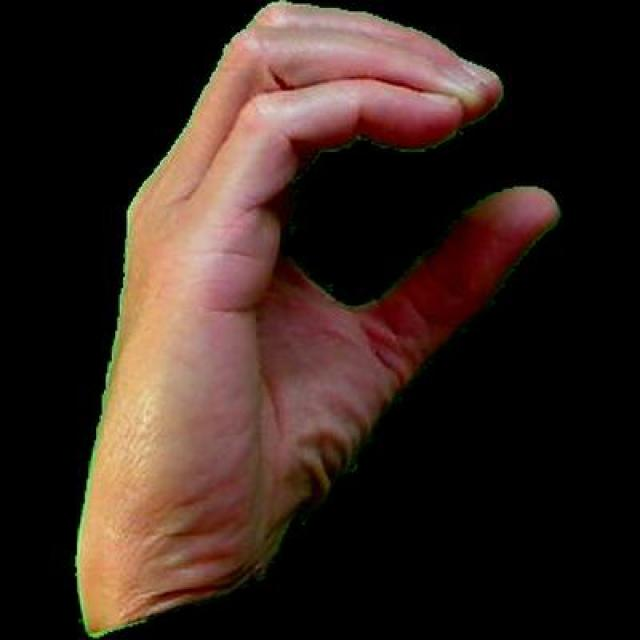c: (48, 0, 562, 637)
